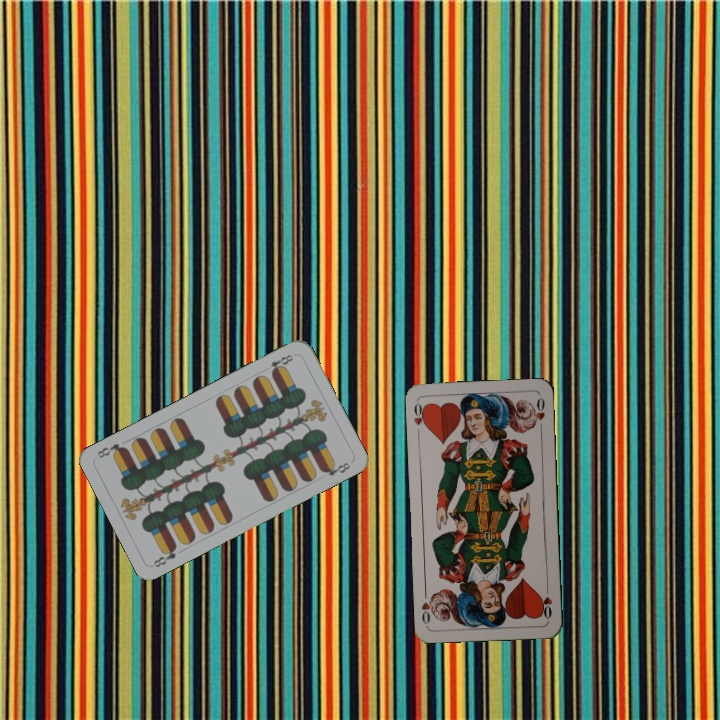E8: (149, 541, 179, 570), (266, 350, 296, 377)
HO: (410, 398, 429, 439), (537, 582, 554, 621)
